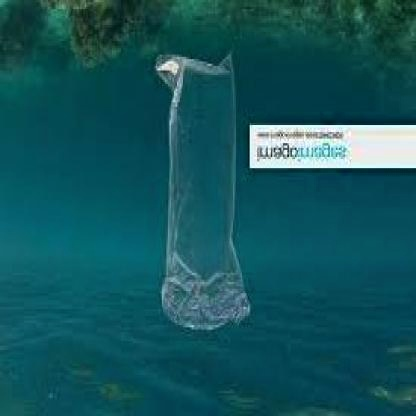pbag: (154, 48, 251, 334)
